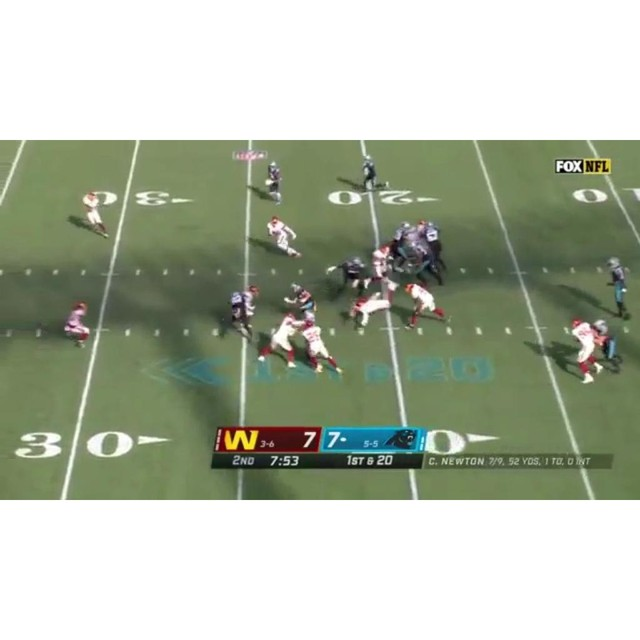american-football-player: (349, 280, 398, 335), (566, 318, 603, 384), (300, 318, 342, 375), (258, 314, 300, 368), (219, 285, 258, 342), (404, 282, 448, 332), (604, 256, 632, 318), (592, 318, 623, 372), (409, 238, 443, 287), (326, 256, 368, 295), (266, 215, 301, 258), (421, 220, 447, 275), (81, 190, 109, 238), (387, 222, 413, 273), (64, 301, 91, 349), (367, 243, 392, 288), (360, 154, 384, 193), (263, 162, 285, 204), (285, 284, 317, 312)
